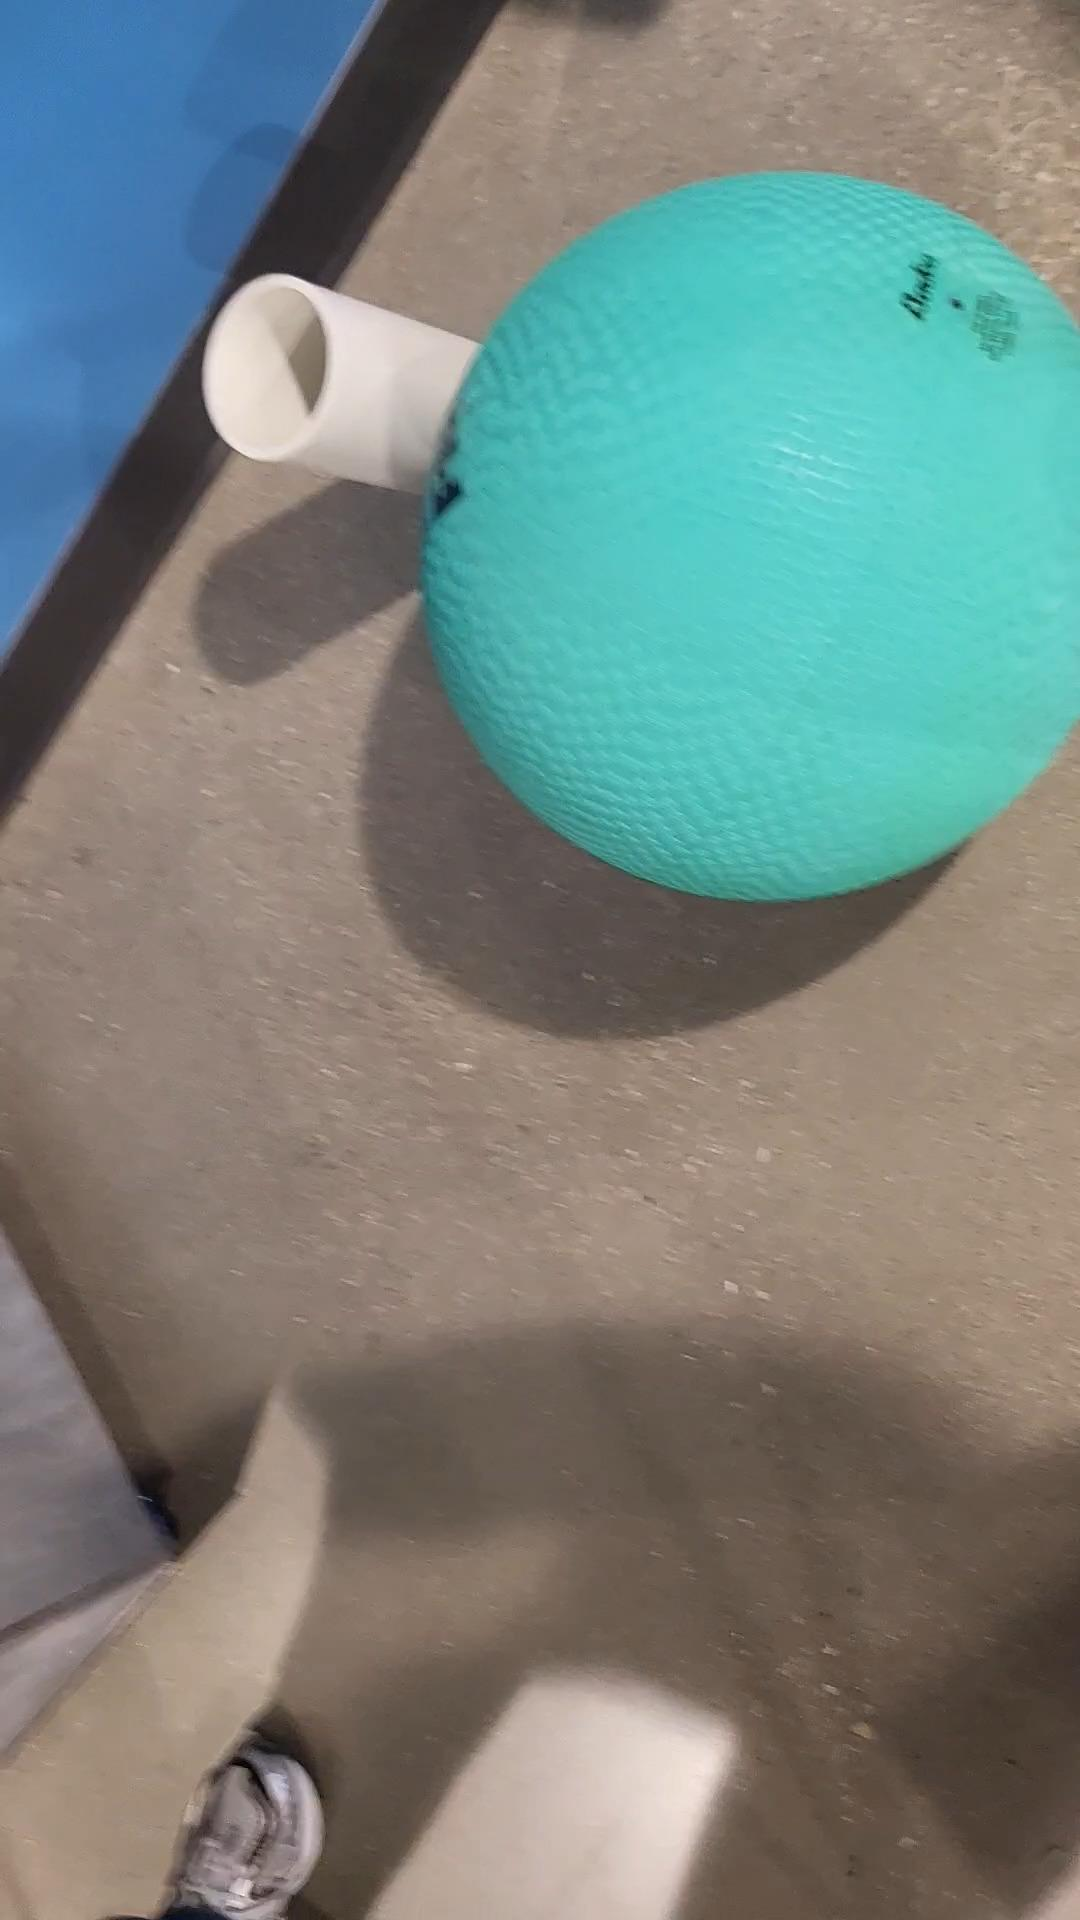algae: (432, 170, 1080, 898)
coral: (208, 275, 492, 492)
